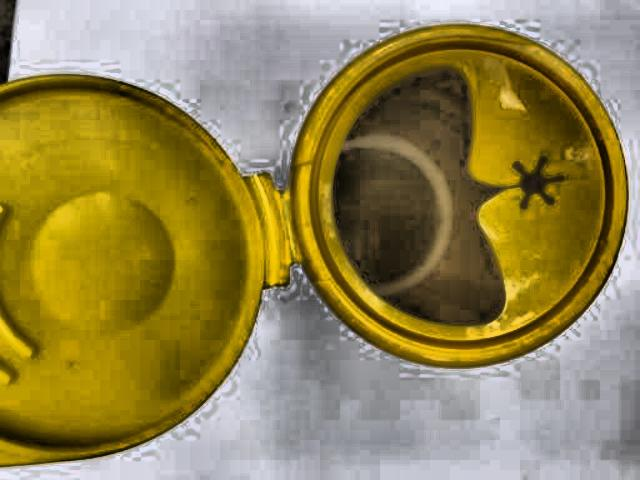Plastic: (0, 16, 625, 387)
